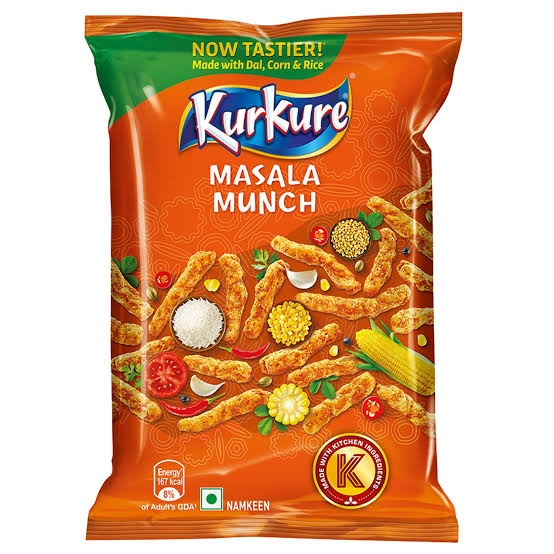kurkure: (82, 17, 462, 544)
